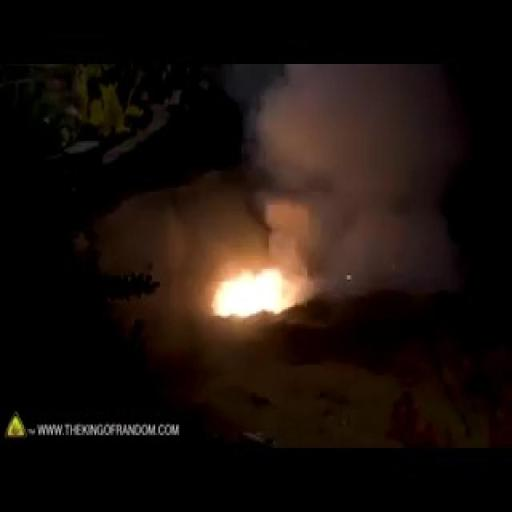smoke: (206, 209, 327, 320)
